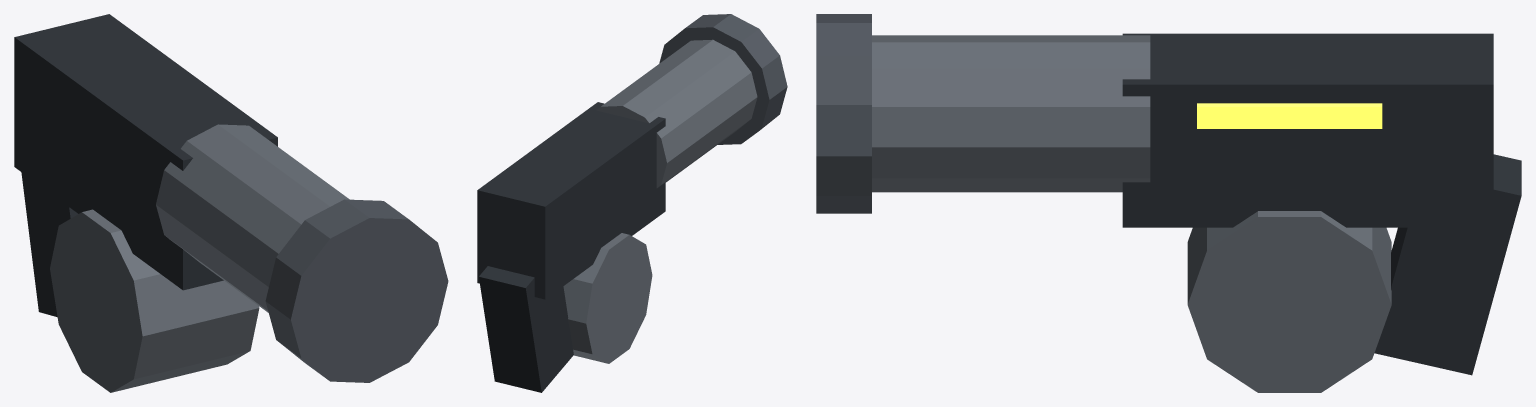
File: Modle_Gun_Grenade.fbx
The picture shows the model from 3 angles, left to right: view 1: azimuth 30°, elevation 25°; view 2: azimuth 150°, elevation 25°; view 3: azimuth 270°, elevation 25°; orthographic projection. The views are drawn at different scales.
Parts seen in each view (by area): view 1: Modle_Gun_Grenade; view 2: Modle_Gun_Grenade; view 3: Modle_Gun_Grenade.
Part boxes in pixels (<box>): Modle_Gun_Grenade: <box>14,14,448,392</box>; Modle_Gun_Grenade: <box>477,14,787,392</box>; Modle_Gun_Grenade: <box>816,14,1521,392</box>.
Bounding box in the file's own units: 0.216 × 0.4026 × 0.76.
